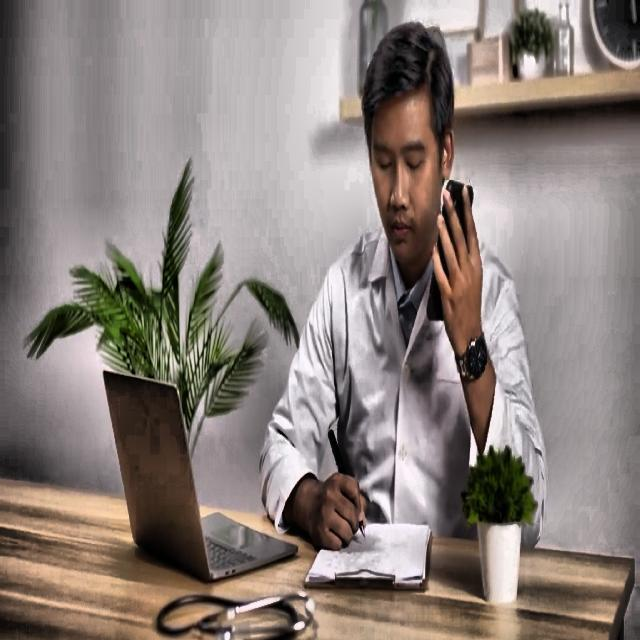Phone: (424, 169, 478, 331)
